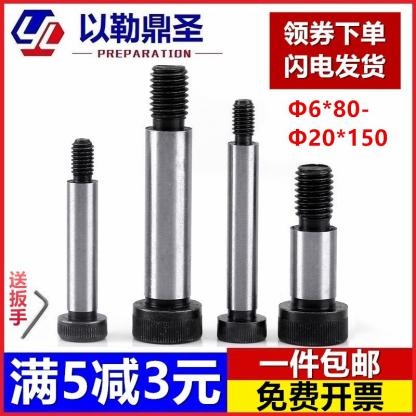FOD: (127, 64, 206, 349), (275, 162, 350, 348), (214, 96, 270, 344), (56, 132, 110, 344)
